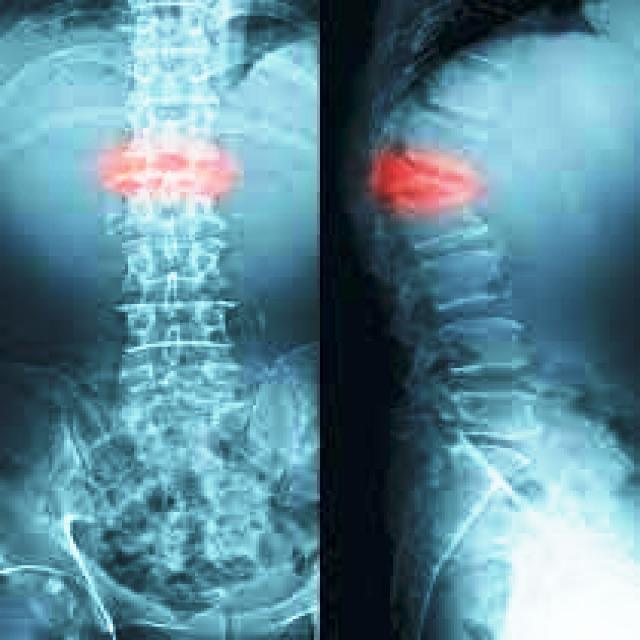Compression-Crush Fracutre: (95, 153, 241, 200), (375, 152, 480, 213)
